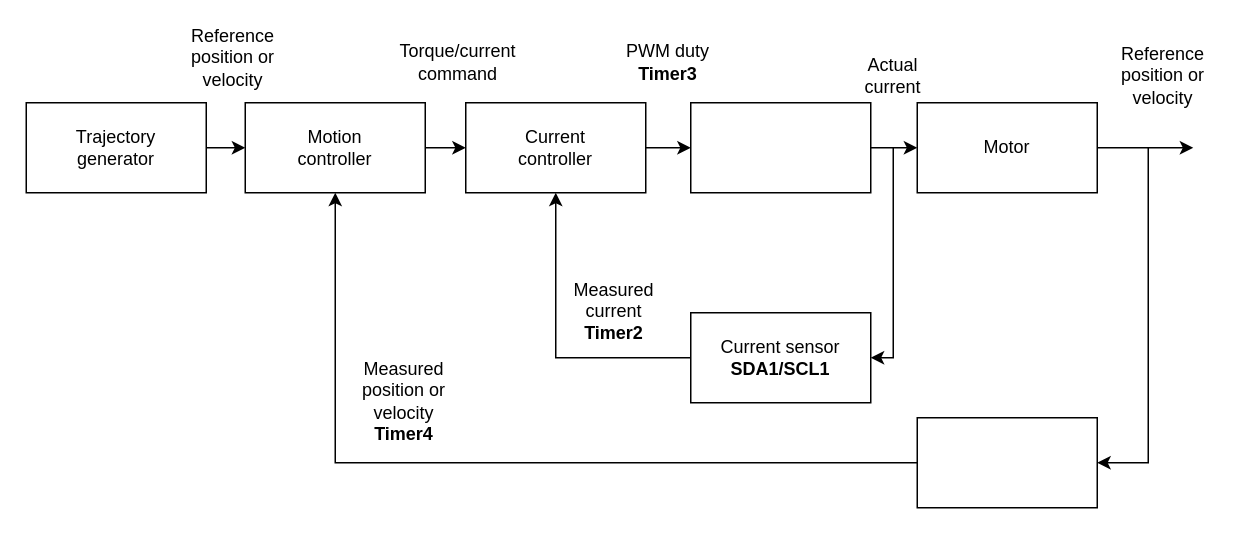
The diagram is 1235 pixels wide and 534 high, and some of its shapes have lost their labels. Each missing label, with the centre of its shape:
"Encoder, tachometer UART2" belongs at pixel 1006 462.
"H-bridge RD1/OC1" belongs at pixel 780 147.
